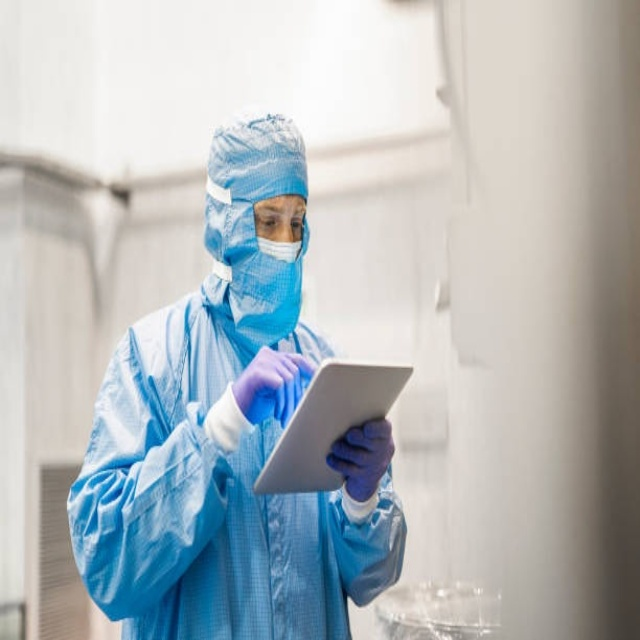Gafas: (251, 204, 307, 248)
Guantes: (232, 346, 316, 428), (327, 417, 395, 504)
Mascara: (223, 235, 312, 335)
